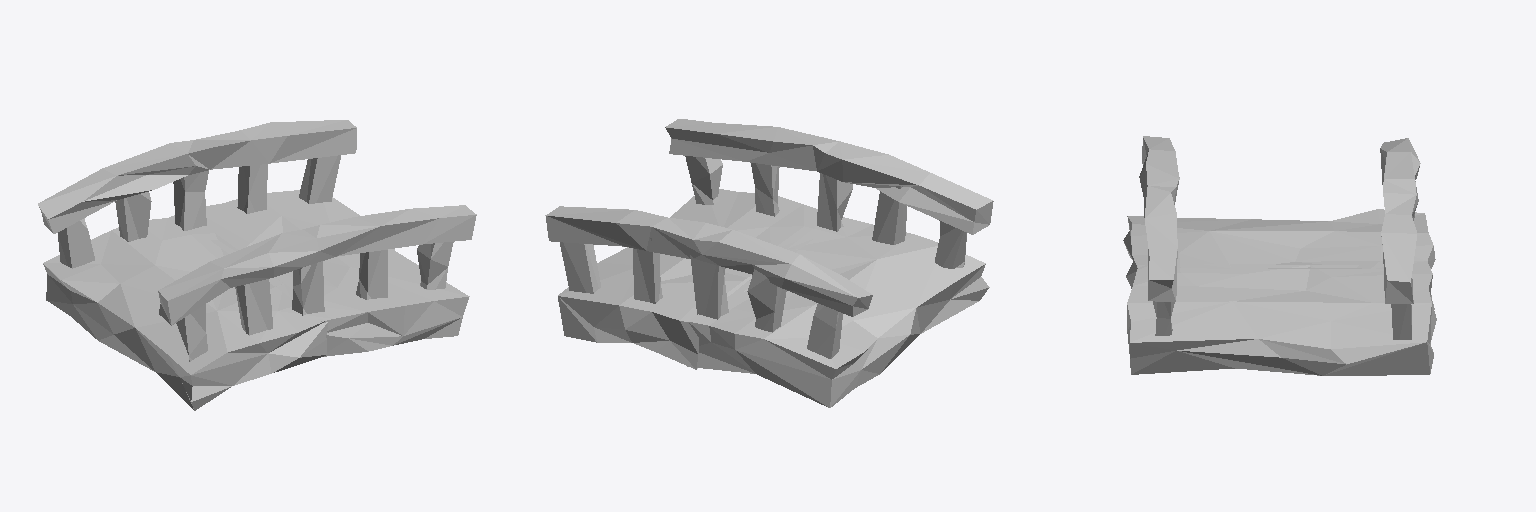
Rendered from Ponte quebrada 2.obj.
The picture shows the model from 3 angles: view 1: azimuth 30°, elevation 25°; view 2: azimuth 150°, elevation 25°; view 3: azimuth 270°, elevation 25°; orthographic projection.
Parts seen in each view (by area): view 1: Ponte.002_Cube.023; view 2: Ponte.002_Cube.023; view 3: Ponte.002_Cube.023.
Part boxes in pixels (left/top/right/bottom): Ponte.002_Cube.023: left=38, top=120, right=476, bottom=410; Ponte.002_Cube.023: left=545, top=119, right=993, bottom=407; Ponte.002_Cube.023: left=1123, top=136, right=1436, bottom=375.
Bounding box in the file's own units: 4.86 × 2.03 × 4.2.